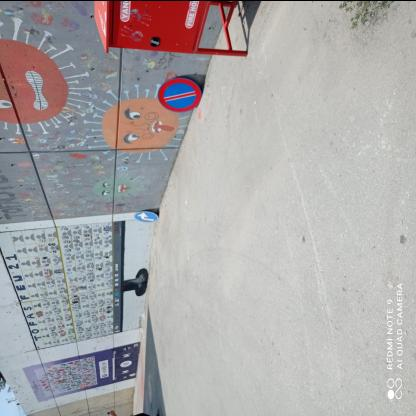No Waiting: (159, 78, 203, 112)
